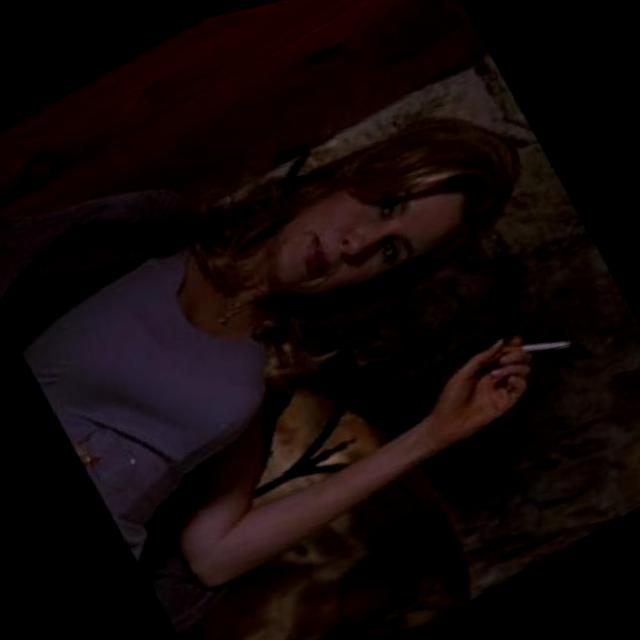smoke: (493, 314, 580, 384)
